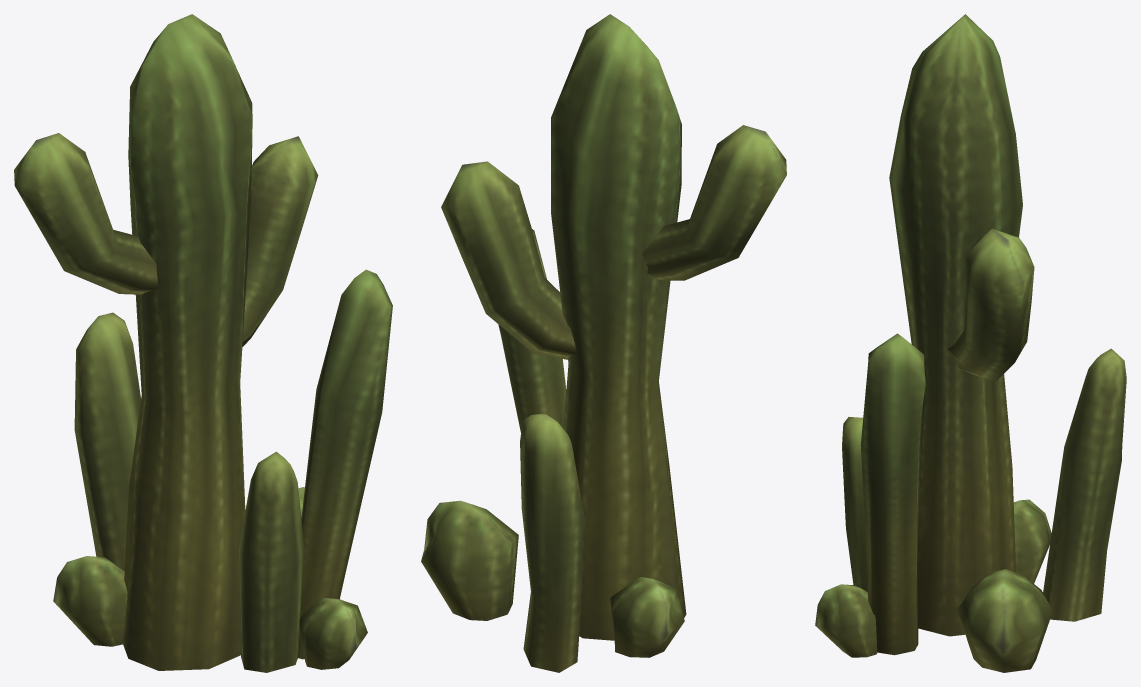
The model's file is Fairy stick_06.fbx.
The picture shows the model from 3 angles, left to right: view 1: azimuth 30°, elevation 25°; view 2: azimuth 150°, elevation 25°; view 3: azimuth 270°, elevation 25°; orthographic projection. The views are drawn at different scales.
Visible parts, largest first — view 1: Fairy stick_06; view 2: Fairy stick_06; view 3: Fairy stick_06.
Part boxes in pixels (x1=…): Fairy stick_06: x1=14, y1=14, x2=392, y2=672; Fairy stick_06: x1=421, y1=14, x2=786, y2=672; Fairy stick_06: x1=815, y1=14, x2=1126, y2=672.
Size of the model in its own units: 173 by 296 by 141.
Materials: 1 (1 with a texture image).
